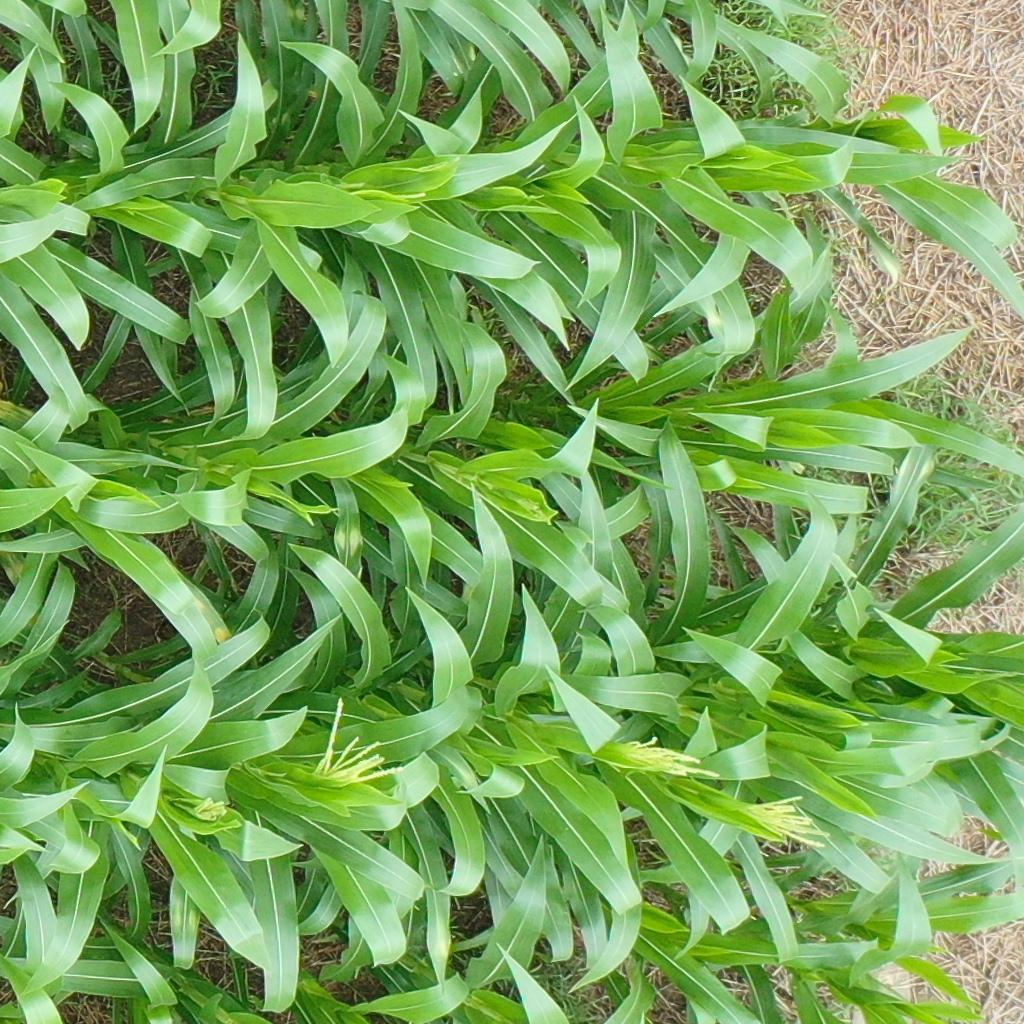Tassel: (302, 694, 407, 797), (736, 789, 836, 861), (604, 730, 721, 788), (508, 493, 554, 527), (185, 794, 231, 827)
